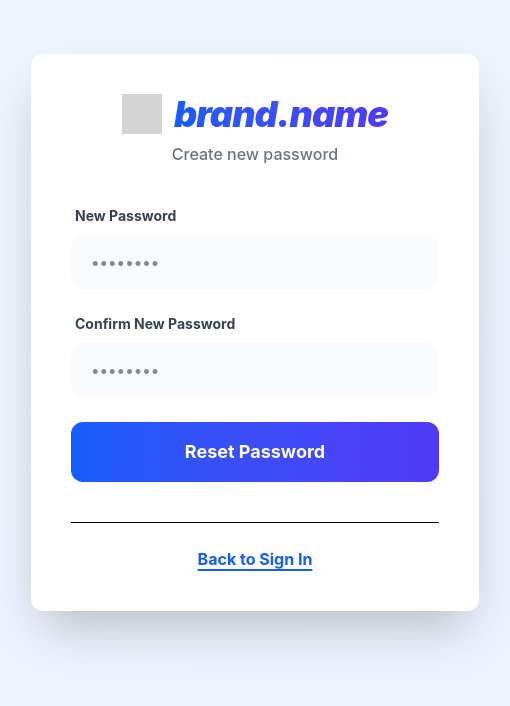
Scenario: ResetPassword Page › validates password match
Type "password123" into the 1st password field with placeholder "••••••••" at (255, 262), box x1=71 y1=234 x2=439 y2=290
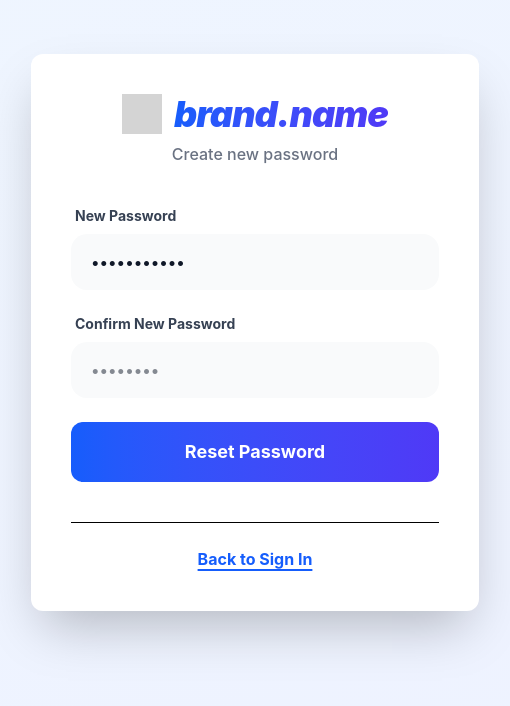
Type "different" into the password field with placeholder "••••••••" at (255, 370), box x1=71 y1=342 x2=439 y2=398
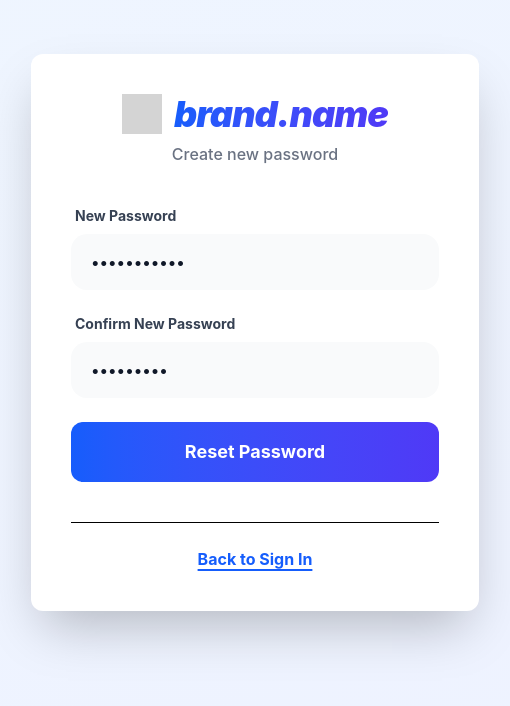
Click the button "Reset Password" at (255, 452), box x1=71 y1=422 x2=439 y2=482
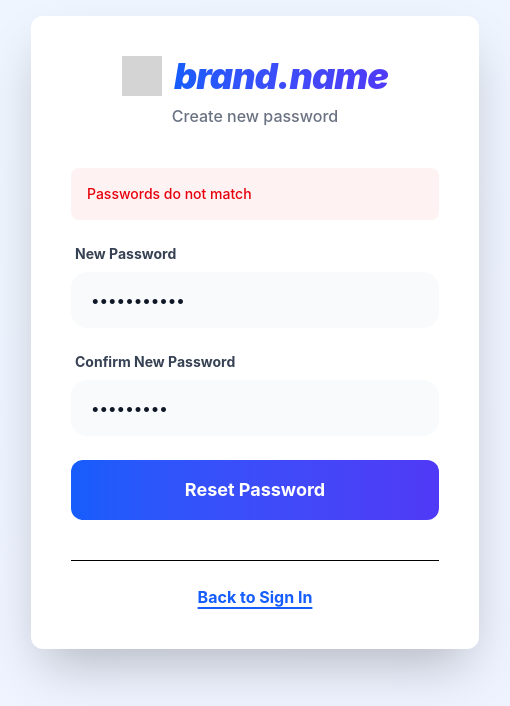
Now the text "Passwords do not match" is shown, box x1=71 y1=168 x2=439 y2=220
